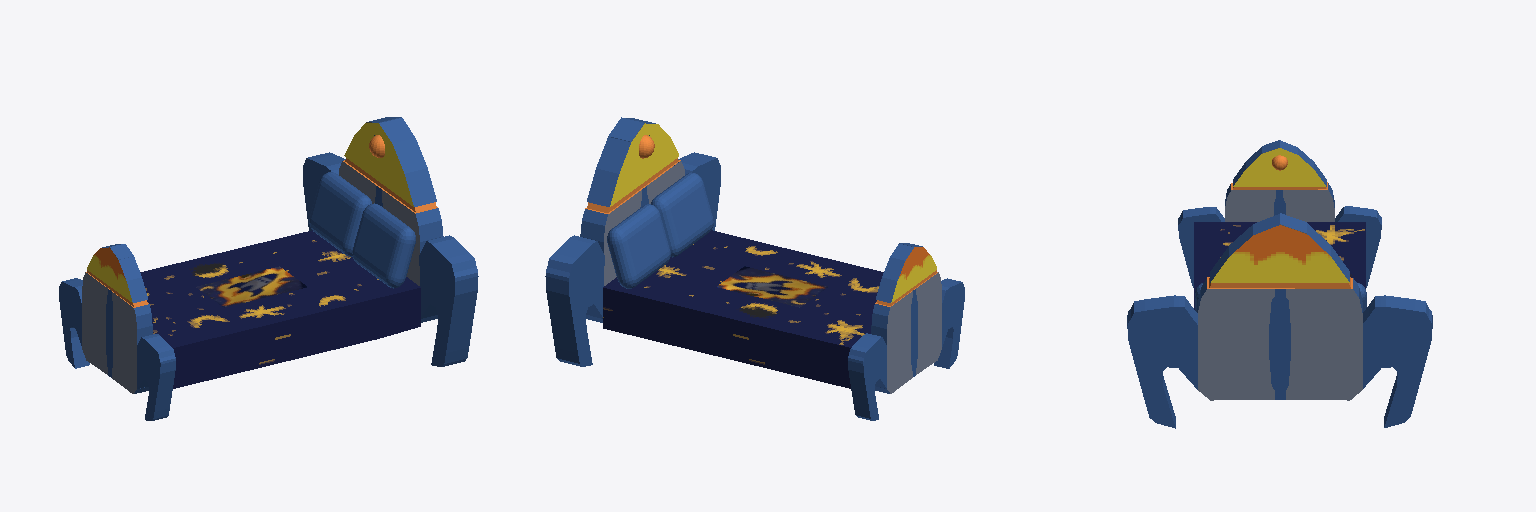
The picture shows the model from 3 angles: view 1: azimuth 30°, elevation 25°; view 2: azimuth 150°, elevation 25°; view 3: azimuth 270°, elevation 25°; orthographic projection.
Parts seen in each view (by area): view 1: cama:polySurface1; view 2: cama:polySurface1; view 3: cama:polySurface1.
Part boxes in pixels (x1,y1,x2,y2): cama:polySurface1: (59,117,478,420); cama:polySurface1: (545,117,964,420); cama:polySurface1: (1127,140,1432,428).
Size of the model in its own units: 13.88 by 9.34 by 12.53.
14 materials, 7 textured.